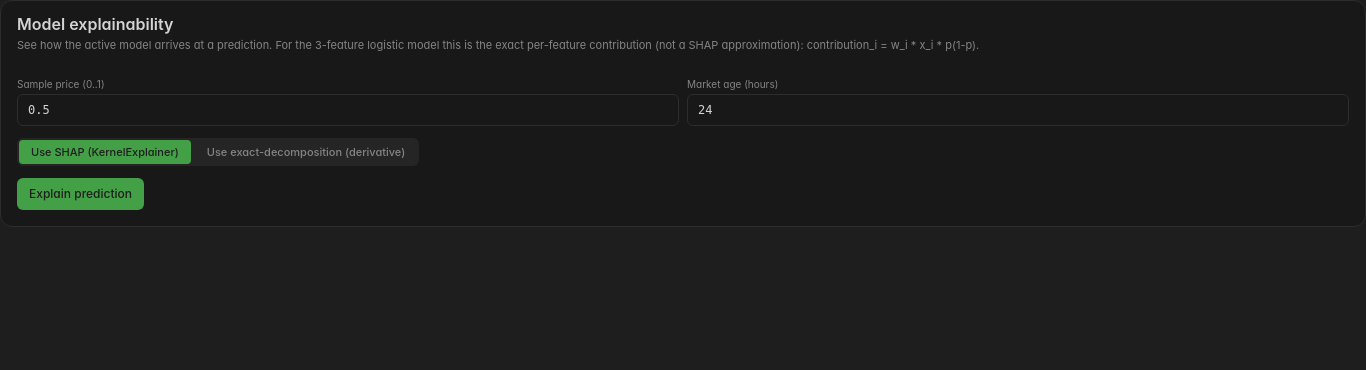
Scenario: ExplainabilityCard SHAP/derivative toggle (v0.59) › defaults to SHAP and the result panel shows the method + baseline + efficiency
Step 1. Click the button with test id "explain-run" → (80, 194), box 17,178 -> 144,210
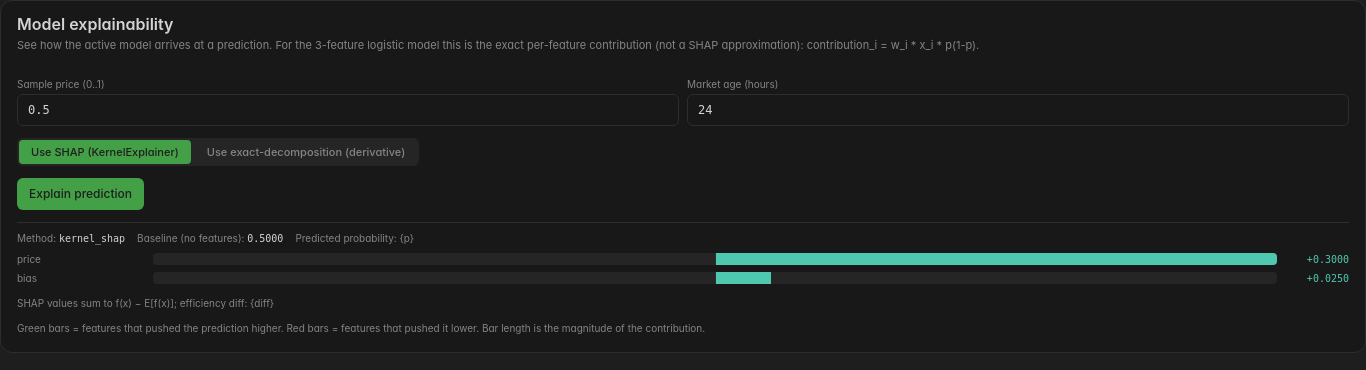
Result: the element with test id "explain-result" shows "kernel_shap" at 59,233 -> 125,244
